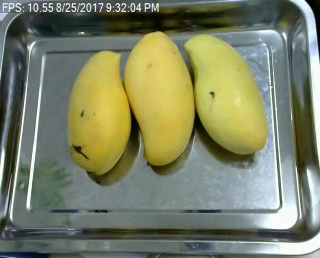Mango: (182, 34, 265, 155), (124, 31, 195, 165), (68, 49, 130, 175)
